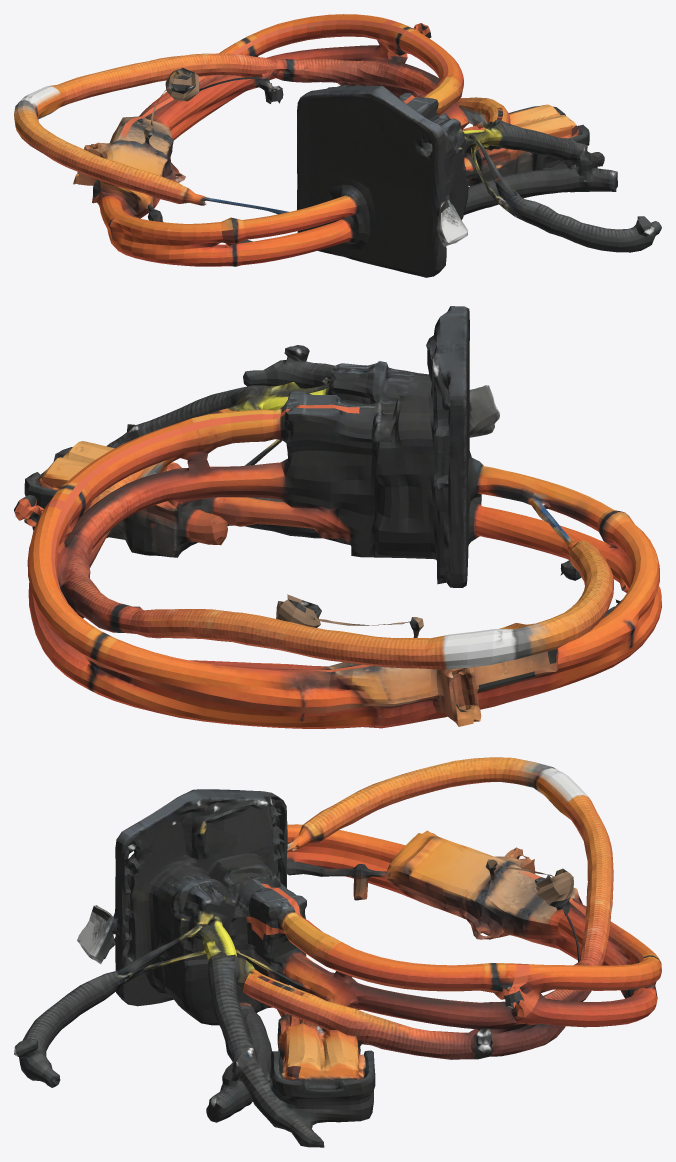
The model's file is ElectricCableTripo1.fbx.
The picture shows the model from 3 angles, top to bottom: view 1: azimuth 30°, elevation 25°; view 2: azimuth 150°, elevation 25°; view 3: azimuth 270°, elevation 25°; orthographic projection. The views are drawn at different scales.
Visible parts, largest first — view 1: ElectricCableTripo1; view 2: ElectricCableTripo1; view 3: ElectricCableTripo1.
Boxes of the visible parts, <box> form: ElectricCableTripo1: <box>14,14,661,277</box>; ElectricCableTripo1: <box>14,306,661,728</box>; ElectricCableTripo1: <box>14,757,661,1147</box>.
Size of the model in its own units: 99.67 by 33.52 by 97.25.
Materials: 2 (2 with a texture image).
